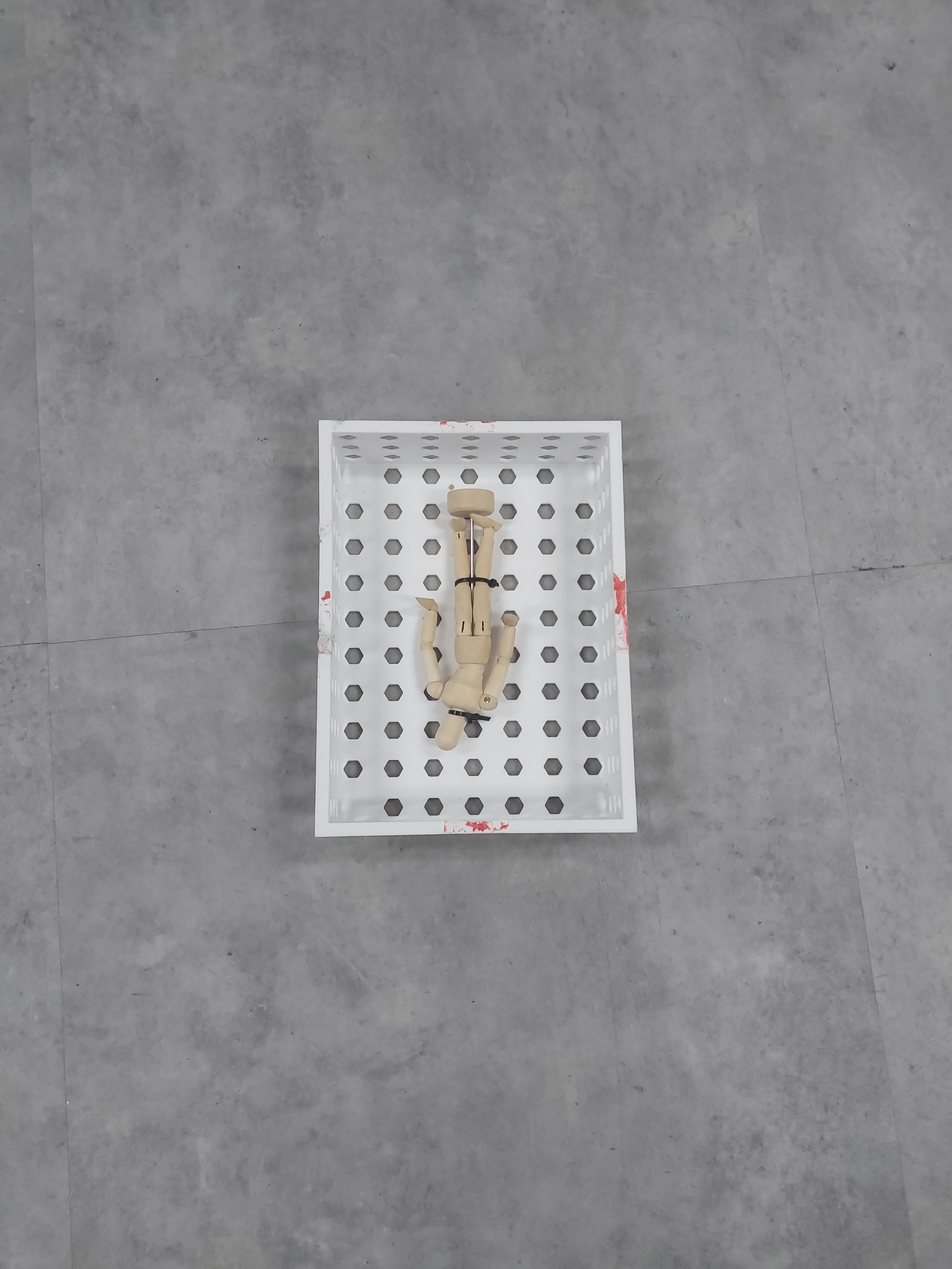basket: (310, 411, 643, 848)
mannequin: (408, 485, 522, 754)
